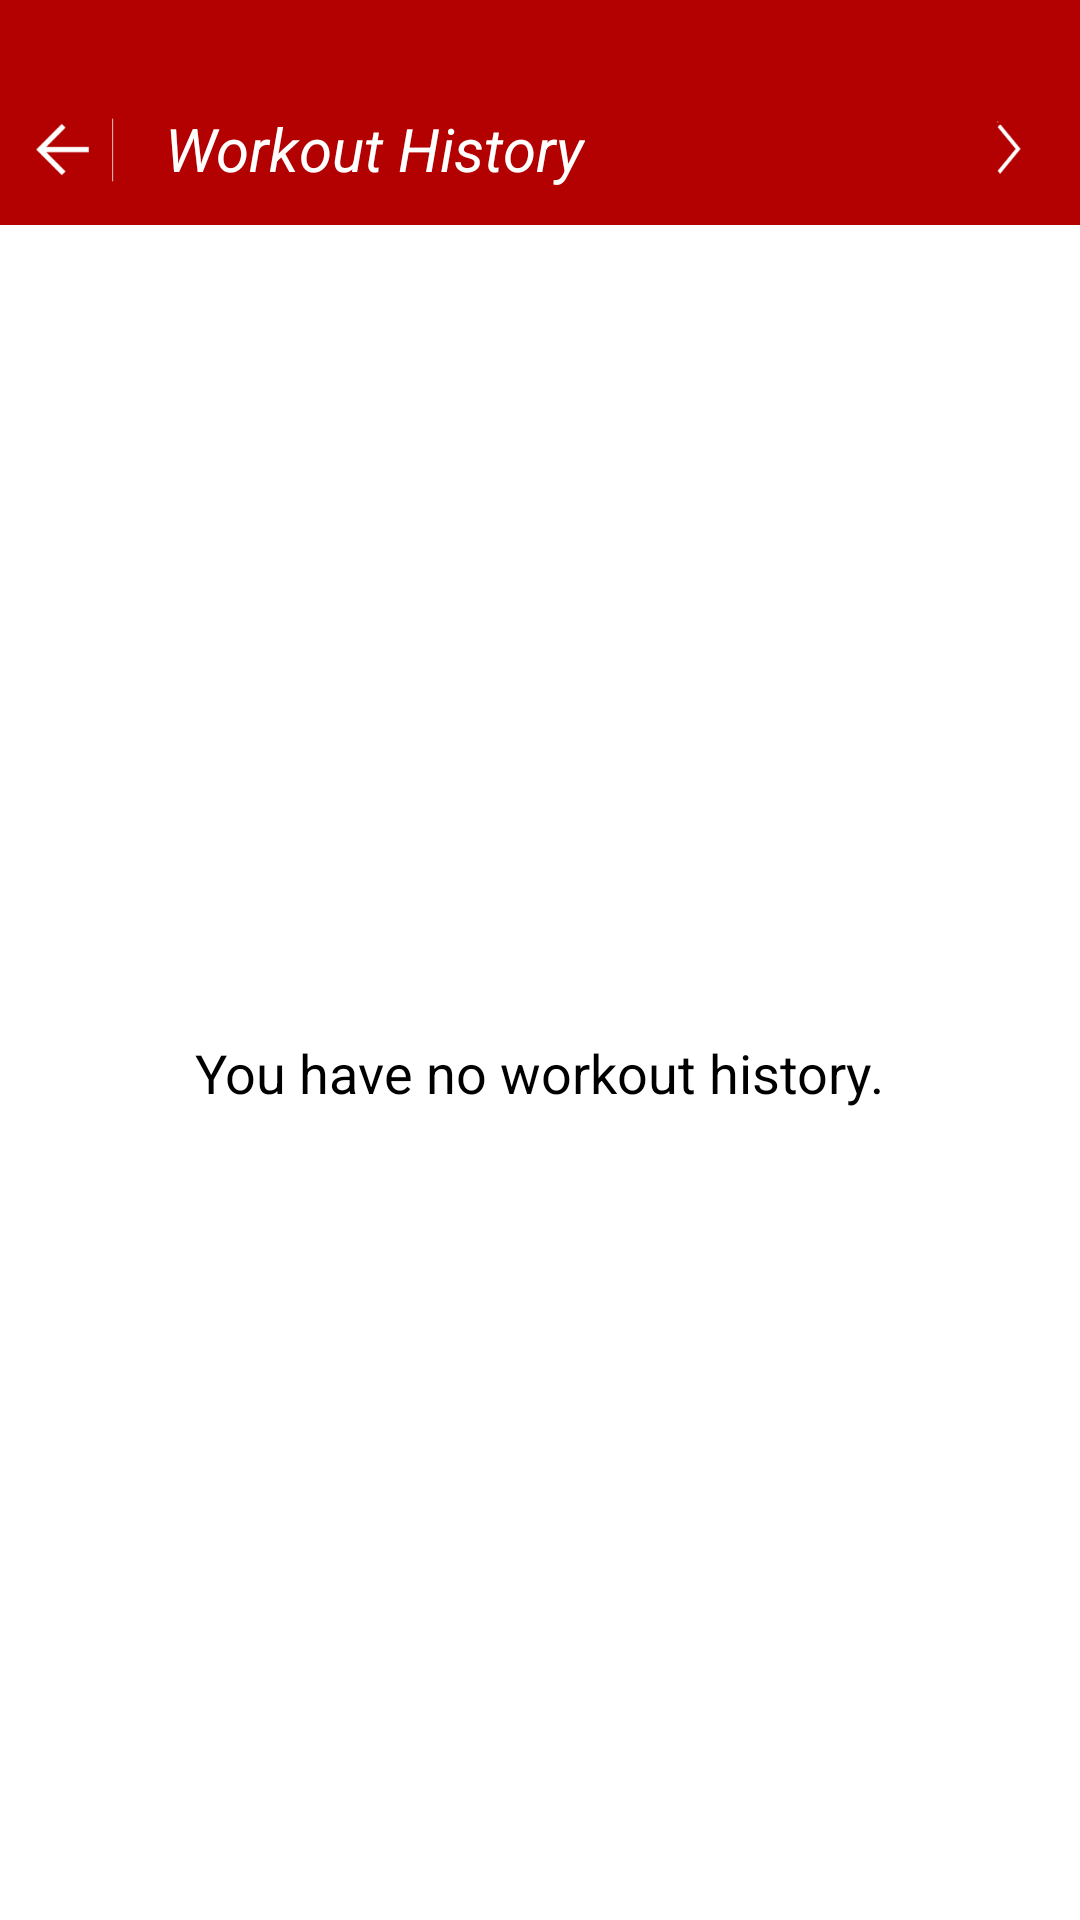

Screen size 1080 × 1920. Icon name, then its box in pixels as (left=x1, top=y1, right=x2, bottom=y2):
leftv: (left=36, top=118, right=114, bottom=182)
right: (left=997, top=121, right=1021, bottom=174)
